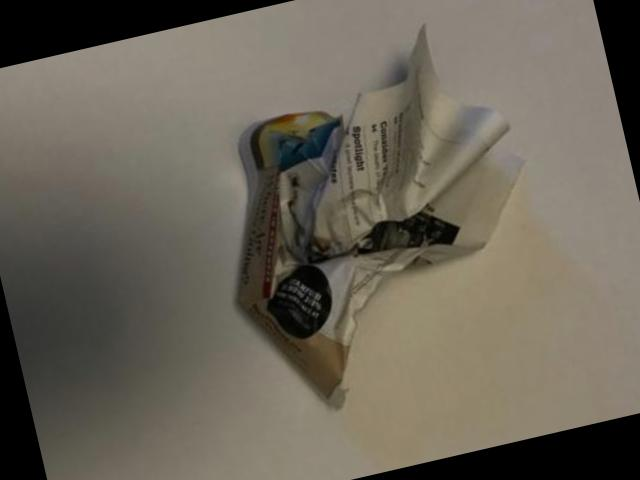cardboard paper: (241, 30, 524, 407)
